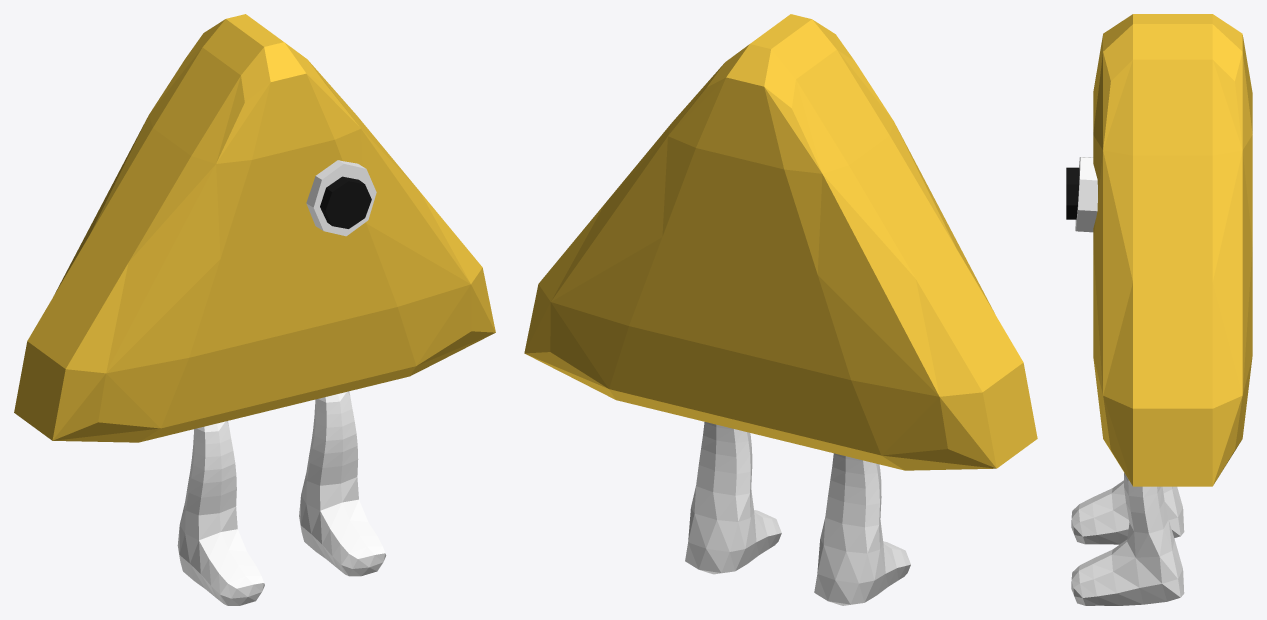
3 renders of one model, left to right at view 1: azimuth 30°, elevation 25°; view 2: azimuth 150°, elevation 25°; view 3: azimuth 270°, elevation 25°, orthographic. The views are drawn at different scales.
Visible parts, largest first — view 1: Cube-S3D-15, leg_l-S3D-21, leg_r-S3D-23, eyewhhite-S3D-24, Cylinder-S3D-25; view 2: Cube-S3D-15, leg_l-S3D-21, leg_r-S3D-23; view 3: Cube-S3D-15, leg_r-S3D-23, leg_l-S3D-21, eyewhhite-S3D-24, Cylinder-S3D-25.
Part boxes in pixels (<box>): Cube-S3D-15: <box>14,14,495,442</box>; leg_l-S3D-21: <box>177,421,264,605</box>; leg_r-S3D-23: <box>299,391,386,576</box>; eyewhhite-S3D-24: <box>306,160,376,236</box>; Cylinder-S3D-25: <box>320,176,371,228</box>; Cube-S3D-15: <box>524,14,1037,470</box>; leg_l-S3D-21: <box>814,453,910,605</box>; leg_r-S3D-23: <box>685,422,781,574</box>; Cube-S3D-15: <box>1093,14,1252,486</box>; leg_r-S3D-23: <box>1071,473,1184,605</box>; leg_l-S3D-21: <box>1071,480,1184,544</box>; eyewhhite-S3D-24: <box>1075,157,1097,232</box>; Cylinder-S3D-25: <box>1066,167,1079,219</box>.
Bounding box in the file's own units: 2.54 × 2.9 × 0.8909.
